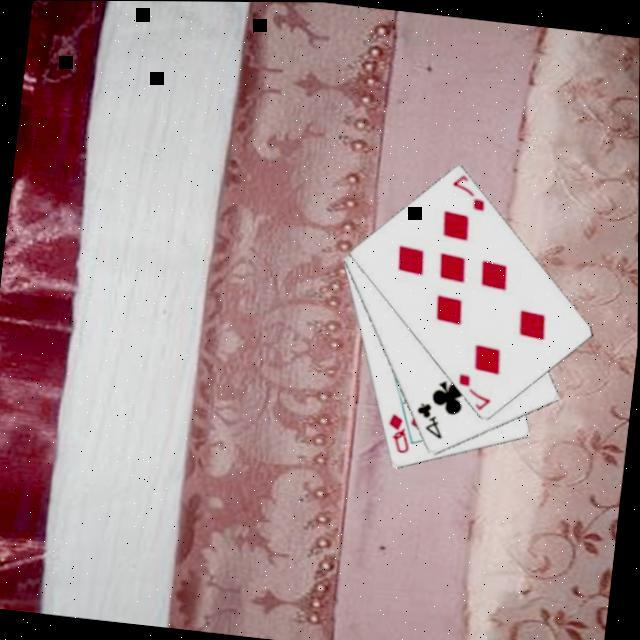4C: (409, 395, 447, 438)
7D: (451, 367, 495, 411), (445, 168, 489, 212)
QD: (381, 407, 415, 455)
